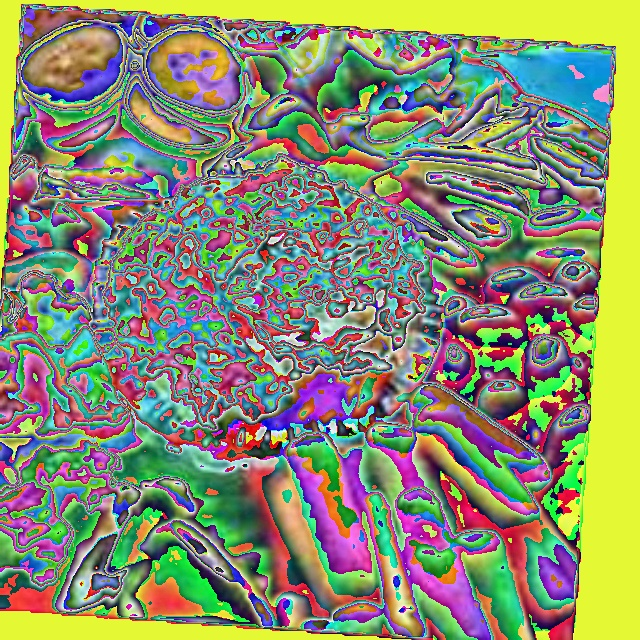background: (0, 13, 608, 639), (0, 2, 3, 584)
